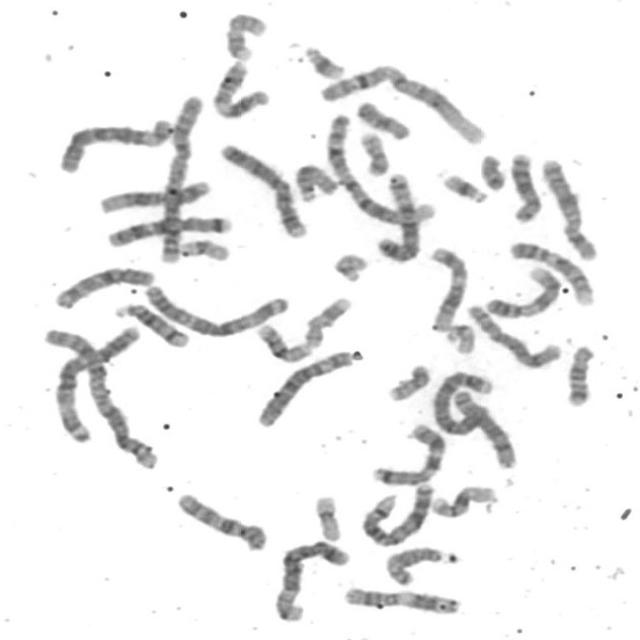A1: (313, 58, 490, 146), (320, 108, 439, 227)
A2: (40, 321, 162, 471), (154, 89, 205, 265)
A3: (45, 320, 144, 447), (138, 278, 292, 338)
B4: (215, 136, 310, 240), (428, 365, 497, 437)
B5: (268, 535, 352, 624), (371, 167, 422, 264)
C10: (170, 487, 271, 554), (49, 261, 156, 311)
C11: (337, 581, 464, 616), (206, 56, 272, 120)
C12: (92, 174, 213, 215), (423, 242, 470, 333)
C6: (250, 345, 357, 429), (53, 112, 176, 175)
C7: (366, 418, 450, 487), (100, 210, 235, 249)
C8: (462, 298, 564, 370), (448, 384, 520, 470)
C9: (503, 235, 598, 307), (479, 260, 563, 320)
D13: (362, 471, 434, 544), (503, 147, 544, 224)
D14: (108, 297, 192, 349)
D15: (378, 542, 454, 588), (289, 157, 341, 203)
E16: (424, 480, 500, 520), (251, 318, 315, 364)
E17: (298, 291, 354, 349), (219, 8, 270, 62)
E18: (351, 95, 414, 141), (560, 338, 596, 408)
F19: (308, 490, 343, 542), (173, 233, 232, 263)
F20: (382, 358, 433, 402), (353, 126, 392, 178)
G21: (436, 166, 491, 205), (296, 39, 347, 81)
G22: (327, 247, 371, 284), (439, 318, 478, 356)
X: (536, 153, 600, 262)
Y: (473, 148, 508, 192)
